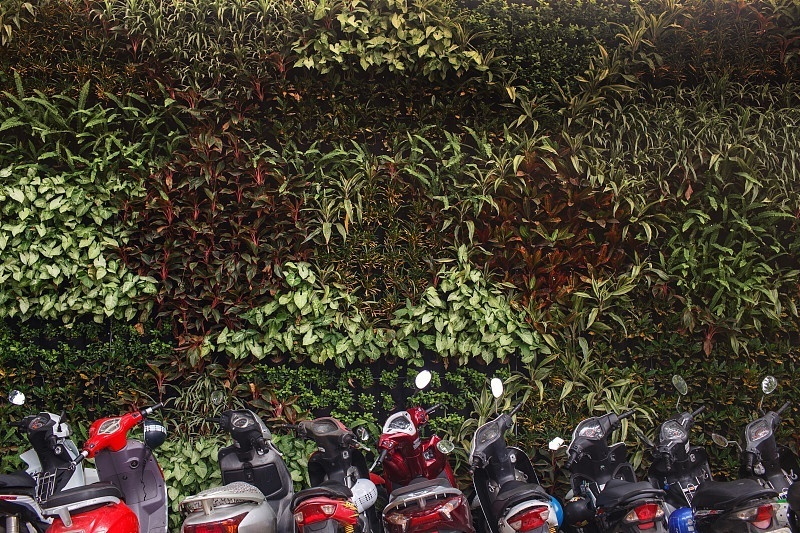non-vehicle: (34, 405, 170, 533), (188, 397, 283, 532), (655, 389, 744, 533), (368, 382, 451, 533), (279, 403, 375, 533), (472, 383, 555, 533), (2, 404, 98, 533), (567, 393, 655, 533), (742, 378, 797, 533)
